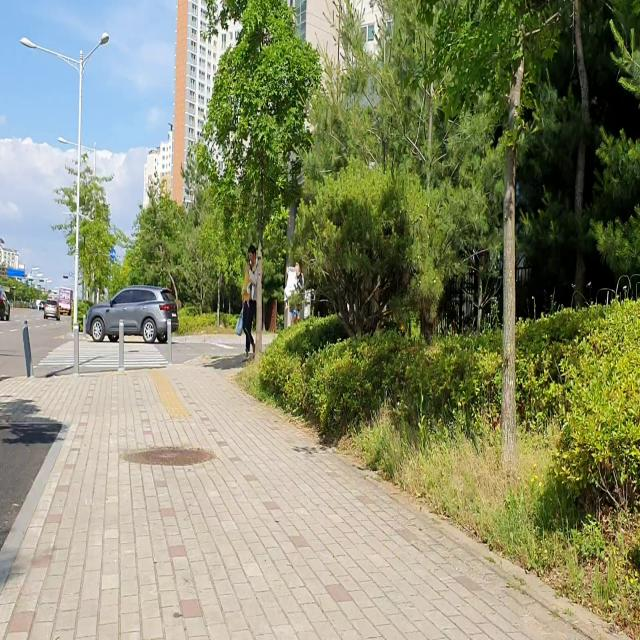횡단보도: (32, 340, 169, 368)
